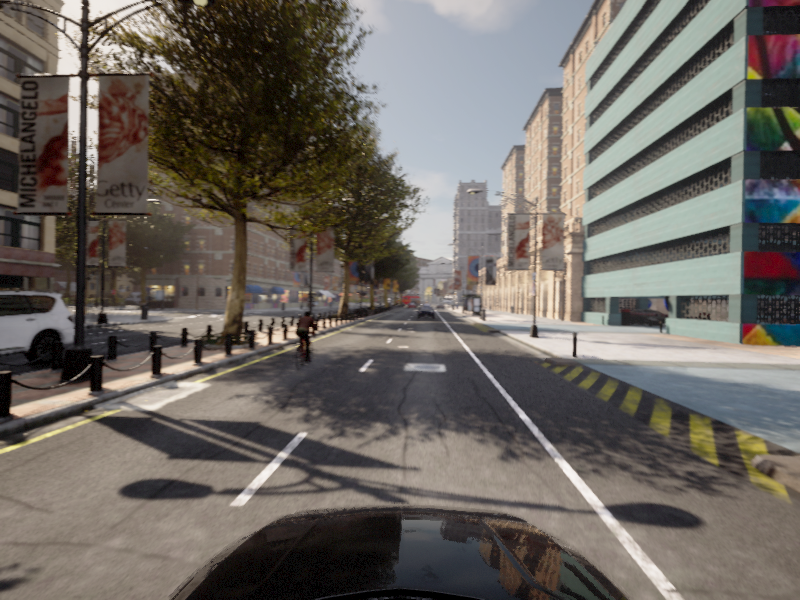vehicle: (1, 285, 87, 404), (285, 310, 323, 371), (417, 306, 435, 319)
